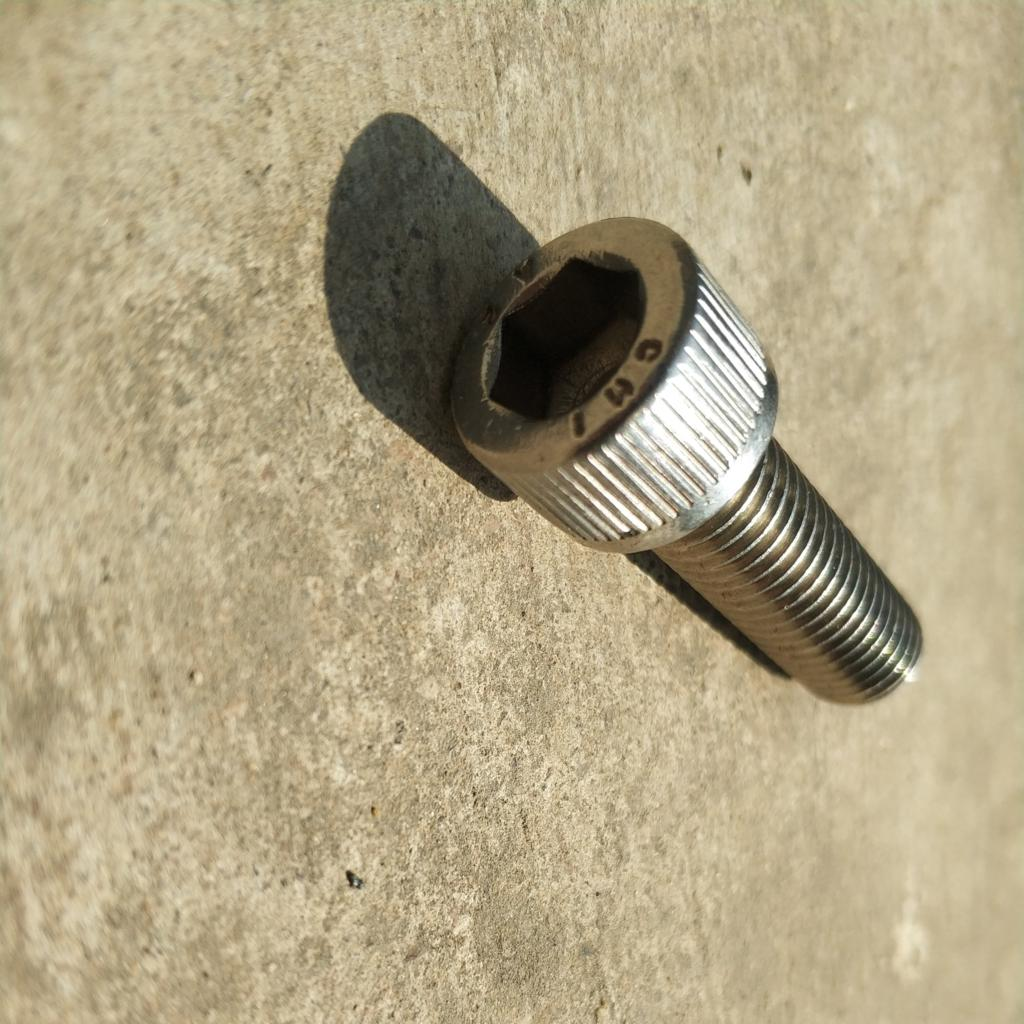screwtype1silver: (432, 207, 931, 728)
